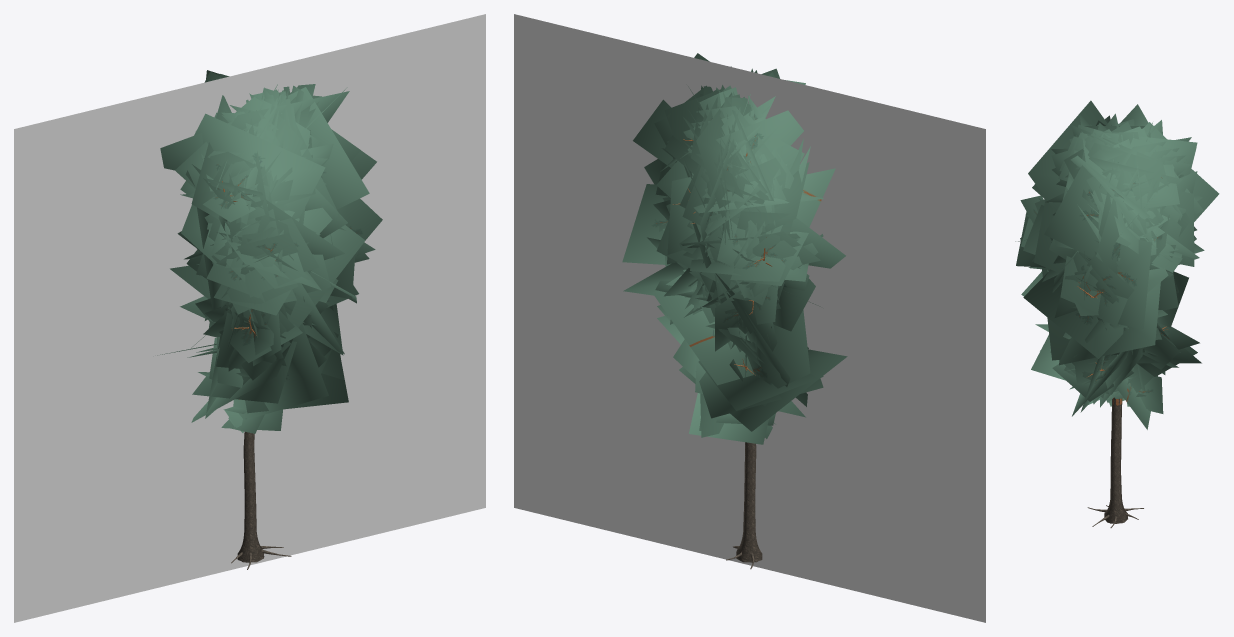
The model's file is pin_adulte_a.fbx.
3 renders of one model, left to right at view 1: azimuth 30°, elevation 25°; view 2: azimuth 150°, elevation 25°; view 3: azimuth 270°, elevation 25°, orthographic. The views are drawn at different scales.
Visible parts, largest first — view 1: pin_adulte_a_LOD3, pin_adulte_a_LOD2, pin_adulte_a_LOD1; view 2: pin_adulte_a_LOD3, pin_adulte_a_LOD2, pin_adulte_a_LOD1; view 3: pin_adulte_a_LOD2, pin_adulte_a_LOD1.
Part boxes in pixels (left/top/right/bottom): pin_adulte_a_LOD3: left=14, top=14, right=485, bottom=622; pin_adulte_a_LOD2: left=157, top=70, right=376, bottom=569; pin_adulte_a_LOD1: left=175, top=77, right=382, bottom=569; pin_adulte_a_LOD3: left=514, top=14, right=985, bottom=622; pin_adulte_a_LOD2: left=622, top=53, right=847, bottom=568; pin_adulte_a_LOD1: left=653, top=68, right=820, bottom=569; pin_adulte_a_LOD2: left=1016, top=100, right=1219, bottom=526; pin_adulte_a_LOD1: left=1015, top=120, right=1197, bottom=527.
Size of what is drawn, in the model's own units: 26.96 by 26.96 by 12.07.
